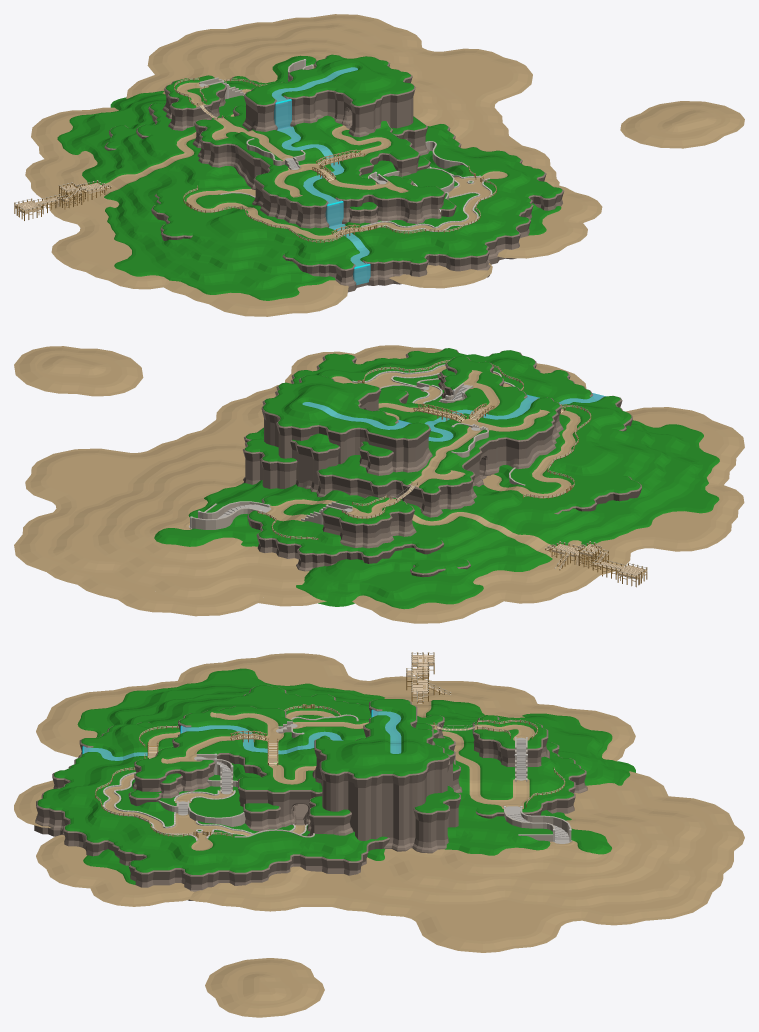
Rendered from Large_Island_v2_No_Ocean_No_Props_Terraced_merged.glb.
3 renders of one model, top to bottom at view 1: azimuth 30°, elevation 25°; view 2: azimuth 150°, elevation 25°; view 3: azimuth 270°, elevation 25°, orthographic. The views are drawn at different scales.
Parts seen in each view (by area): view 1: Grass, Dirt, Cliff, Wood Light (see through), Wood Dark (see through), Water River, Carved Stone 2 (see through), Waterfall, Carved Stone 1 (see through), Carved Stone 3 (see through), Wood Medium (see through); view 2: Dirt, Grass, Cliff, Wood Light (see through), Wood Dark (see through), Water River, Carved Stone 2 (see through), Carved Stone 1 (see through), Wood Medium (see through); view 3: Dirt, Grass, Cliff, Wood Light (see through), Carved Stone 2 (see through), Water River, Carved Stone 1 (see through), Wood Dark (see through), Carved Stone Walkway, Carved Stone 3 (see through).
Boxes of the visible parts, bbox=[...] form: Grass: bbox=[57, 54, 562, 300]; Dirt: bbox=[25, 14, 744, 316]; Cliff: bbox=[104, 55, 563, 292]; Wood Light (see through): bbox=[14, 78, 496, 242]; Wood Dark (see through): bbox=[14, 78, 496, 242]; Water River: bbox=[272, 67, 369, 267]; Carved Stone 2 (see through): bbox=[199, 59, 492, 231]; Waterfall: bbox=[274, 100, 370, 285]; Carved Stone 1 (see through): bbox=[199, 61, 464, 199]; Carved Stone 3 (see through): bbox=[222, 59, 492, 231]; Wood Medium (see through): bbox=[17, 150, 373, 236]; Dirt: bbox=[14, 345, 744, 623]; Grass: bbox=[154, 348, 719, 609]; Cliff: bbox=[242, 348, 641, 577]; Wood Light (see through): bbox=[258, 360, 647, 583]; Wood Dark (see through): bbox=[257, 360, 647, 587]; Water River: bbox=[302, 393, 605, 441]; Carved Stone 2 (see through): bbox=[190, 364, 525, 527]; Carved Stone 1 (see through): bbox=[192, 383, 520, 529]; Wood Medium (see through): bbox=[358, 381, 641, 584]; Dirt: bbox=[14, 653, 744, 1017]; Grass: bbox=[37, 668, 635, 884]; Cliff: bbox=[34, 685, 587, 900]; Wood Light (see through): bbox=[95, 654, 564, 836]; Carved Stone 2 (see through): bbox=[103, 714, 571, 840]; Water River: bbox=[83, 709, 401, 760]; Carved Stone 1 (see through): bbox=[158, 720, 569, 841]; Wood Dark (see through): bbox=[95, 652, 565, 837]; Carved Stone Walkway: bbox=[178, 723, 569, 843]; Carved Stone 3 (see through): bbox=[103, 732, 571, 841].
Bounding box in the file's own units: 157 × 19.25 × 134.
